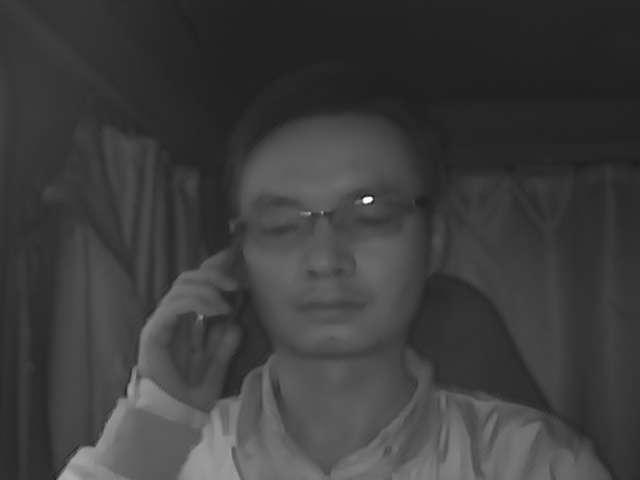hand: (138, 246, 244, 406)
